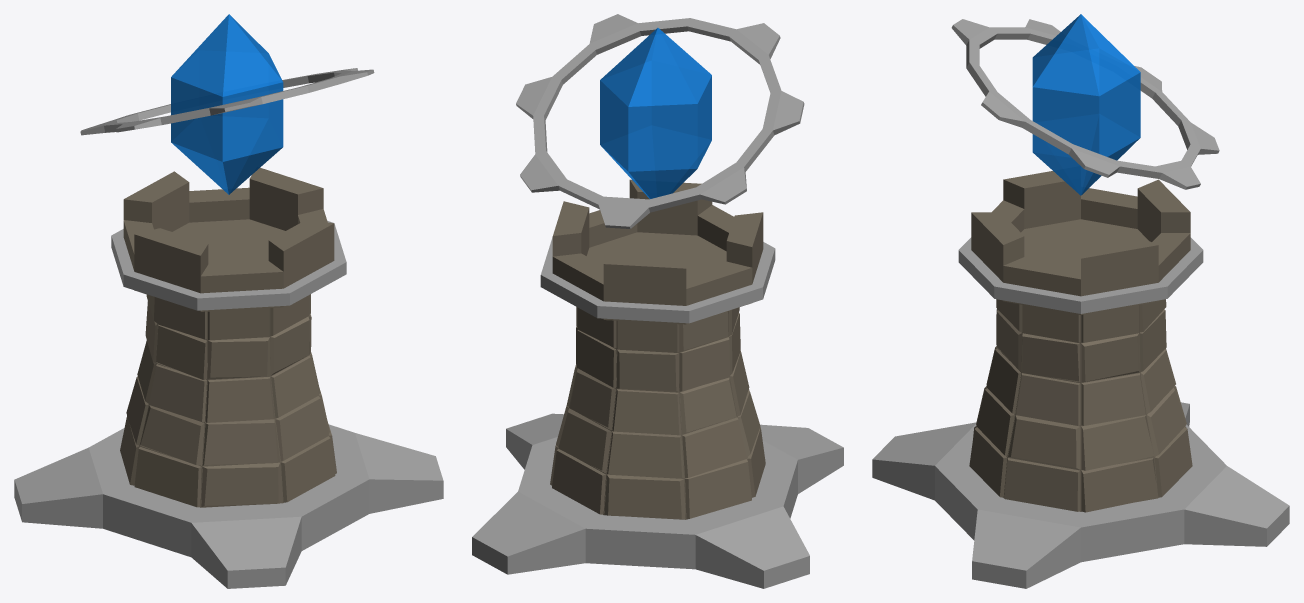
File: Restauracao_Nv3.glb
3 renders of one model, left to right at view 1: azimuth 30°, elevation 25°; view 2: azimuth 150°, elevation 25°; view 3: azimuth 270°, elevation 25°, orthographic.
Parts seen in each view (by area): view 1: Cylinder.002, Cristal.002, Turret.002; view 2: Cylinder.002, Cristal.002, Turret.002; view 3: Cylinder.002, Cristal.002, Turret.002.
Boxes of the visible parts, x1=… form: Cylinder.002: x1=14, y1=167, x2=443, y2=588; Cristal.002: x1=171, y1=14, x2=283, y2=194; Turret.002: x1=80, y1=68, x2=374, y2=135; Cylinder.002: x1=472, y1=179, x2=843, y2=588; Cristal.002: x1=600, y1=28, x2=711, y2=198; Turret.002: x1=516, y1=14, x2=804, y2=228; Cylinder.002: x1=872, y1=171, x2=1289, y2=588; Cristal.002: x1=1032, y1=14, x2=1140, y2=195; Turret.002: x1=951, y1=19, x2=1219, y2=189.
Bounding box in the file's own units: 1.61 × 2.08 × 1.61.
